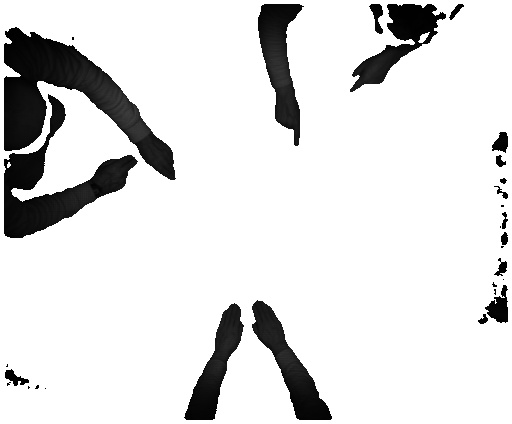hand: (248, 302, 295, 352), (208, 302, 247, 360), (344, 53, 397, 95), (95, 154, 141, 200), (272, 95, 303, 151), (142, 135, 175, 183)
